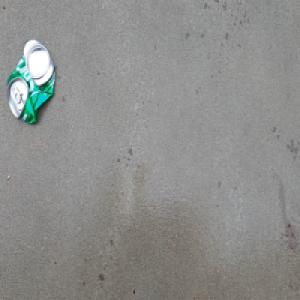SodaCan: (6, 37, 57, 126)
